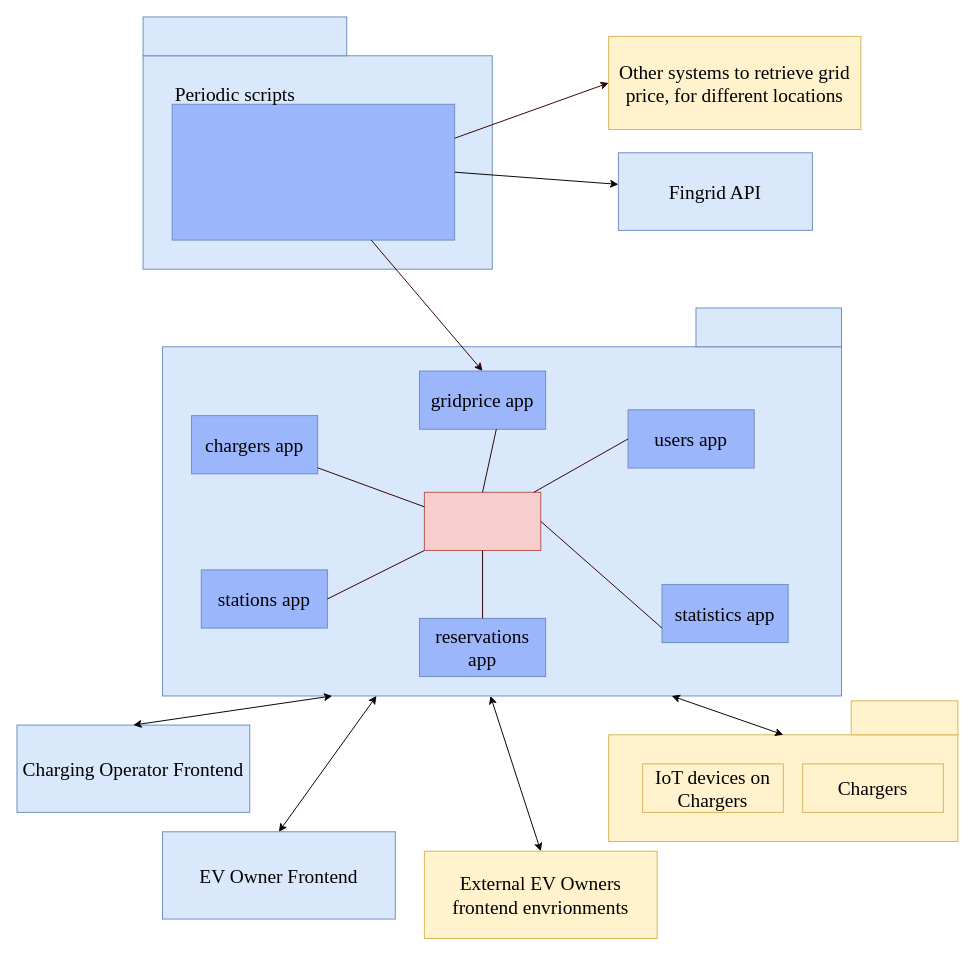
The diagram is 975 pixels wide and 955 high, and some of its shapes have lost their labels. The box of each missing label's shape, as (x1, y1, x2, y2) in pixels:
Backend: (695, 307, 841, 347)
Database: (423, 491, 541, 550)
Get grid price from different APIs and update our database: (171, 103, 455, 240)
Grid price collector: (142, 16, 347, 56)
Stations: (850, 700, 958, 735)
